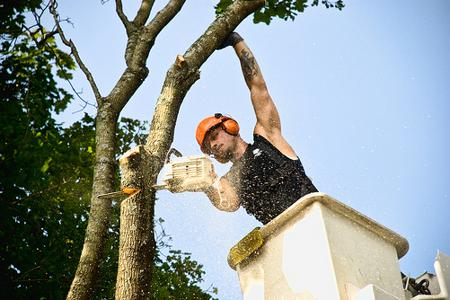person: (197, 30, 321, 230)
